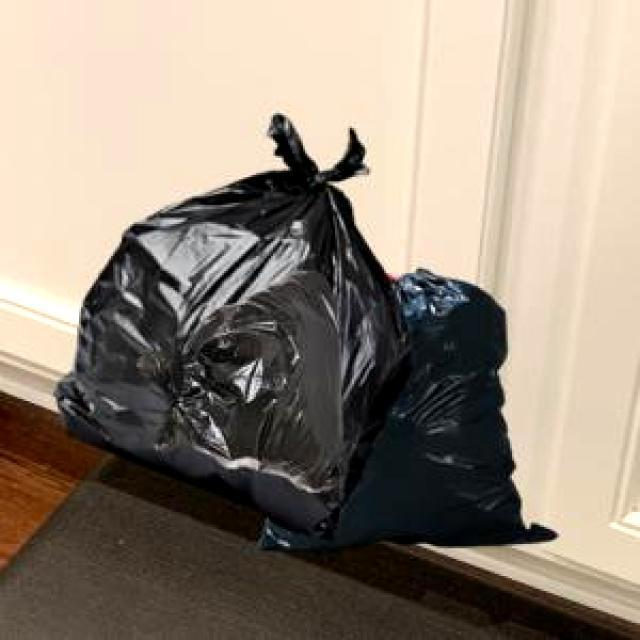Bolsa-de-nilon: (54, 116, 544, 552)
